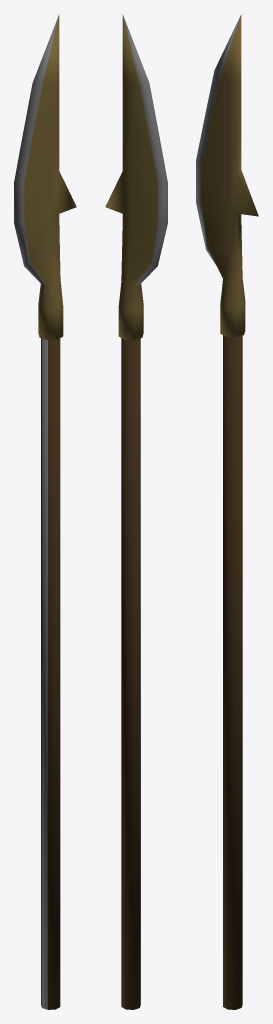
File: glaive.glb
3 views of the same model, side by side, from view 1: azimuth 30°, elevation 25°; view 2: azimuth 150°, elevation 25°; view 3: azimuth 330°, elevation 25° (orthographic).
Parts seen in each view (by area): view 1: Glaive; view 2: Glaive; view 3: Glaive.
Part boxes in pixels (bbox=[...]): Glaive: bbox=[14, 14, 76, 1009]; Glaive: bbox=[105, 14, 167, 1009]; Glaive: bbox=[196, 14, 258, 1009].
Bounding box in the file's own units: 0.1458 × 2.2 × 0.0519.
